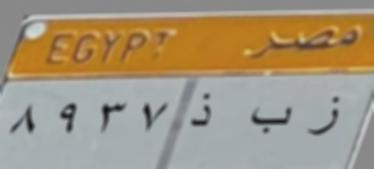3: (92, 100, 130, 138)
7: (135, 95, 171, 138)
8: (8, 98, 41, 143)
9: (55, 95, 88, 134)
baa: (244, 98, 294, 136)
zaal: (184, 86, 224, 134)
zay: (304, 90, 352, 145)
